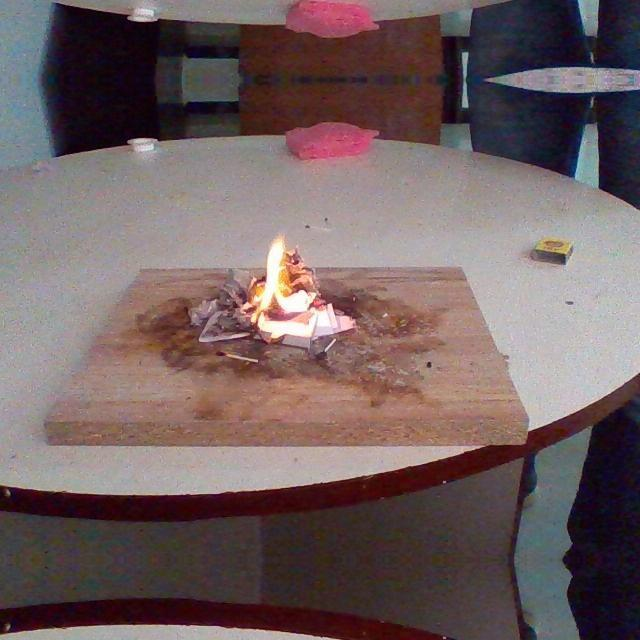smoke: (249, 234, 289, 312)
